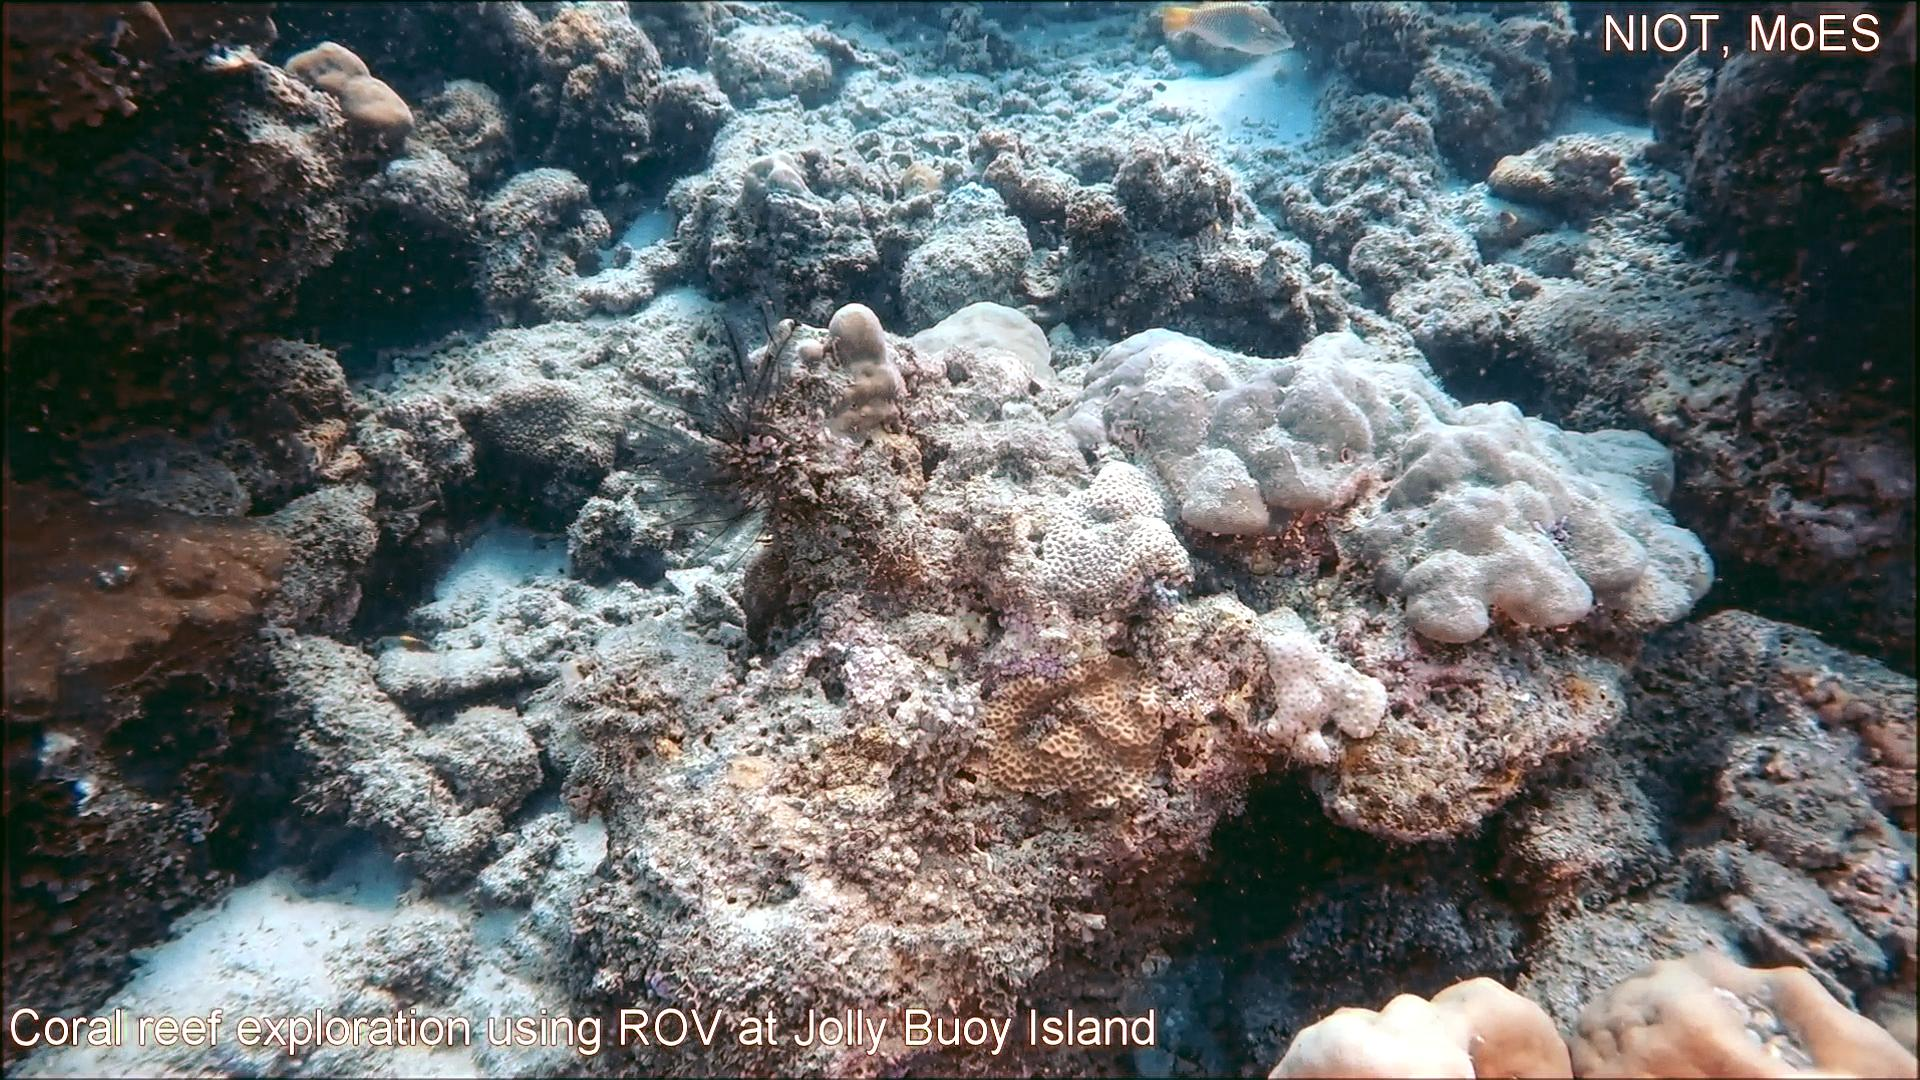Feather star-Crinoid star: (598, 278, 816, 589)
Goniastrea-Goniastrea pectinata: (1032, 452, 1203, 628)
Porites-Porites pukoensis: (1276, 324, 1718, 649)
Turbinaria-Turbinaria stellulata: (470, 372, 627, 489)
